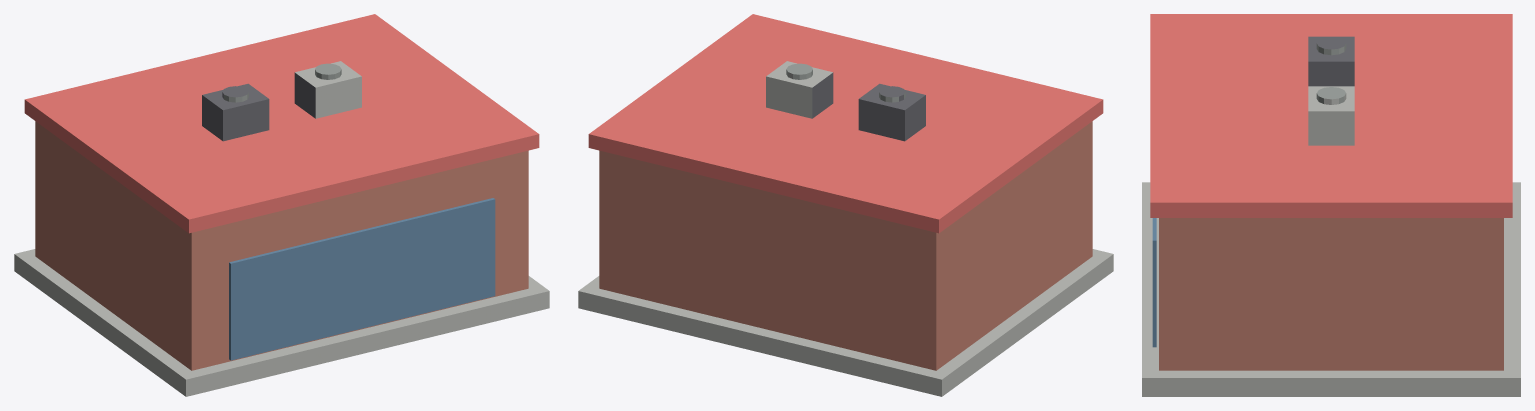
The model's file is convenience_store_corner.glb.
The picture shows the model from 3 angles, left to right: view 1: azimuth 30°, elevation 25°; view 2: azimuth 150°, elevation 25°; view 3: azimuth 270°, elevation 25°; orthographic projection. The views are drawn at different scales.
Parts seen in each view (by area): view 1: convenience_store_corner; view 2: convenience_store_corner; view 3: convenience_store_corner.
Boxes of the visible parts, bbox=[...] form: convenience_store_corner: bbox=[14, 14, 549, 396]; convenience_store_corner: bbox=[578, 14, 1113, 396]; convenience_store_corner: bbox=[1142, 14, 1520, 396].
Bounding box in the file's own units: 11 × 6.05 × 9.
